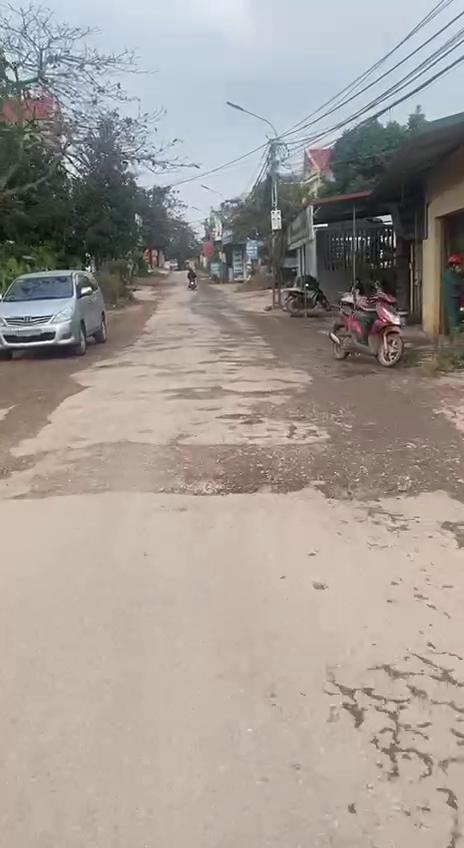pothole: (114, 440, 300, 498), (0, 449, 102, 500), (316, 469, 397, 503), (269, 401, 339, 426), (221, 410, 263, 427)
